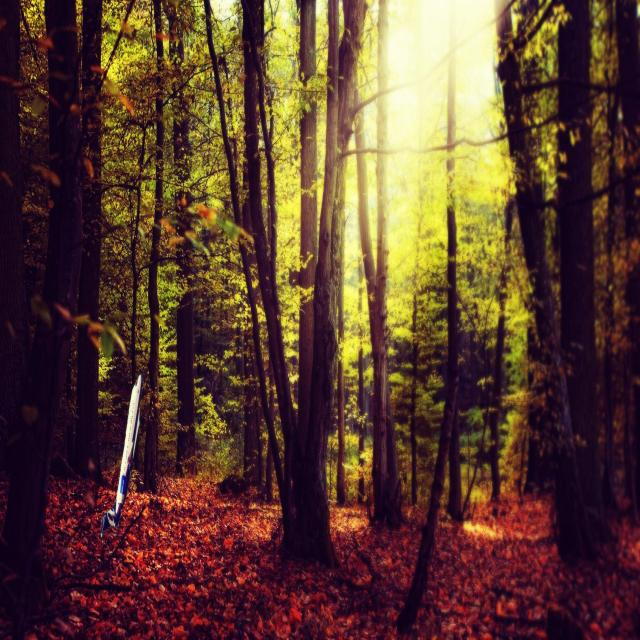airplane: (100, 372, 143, 538)
